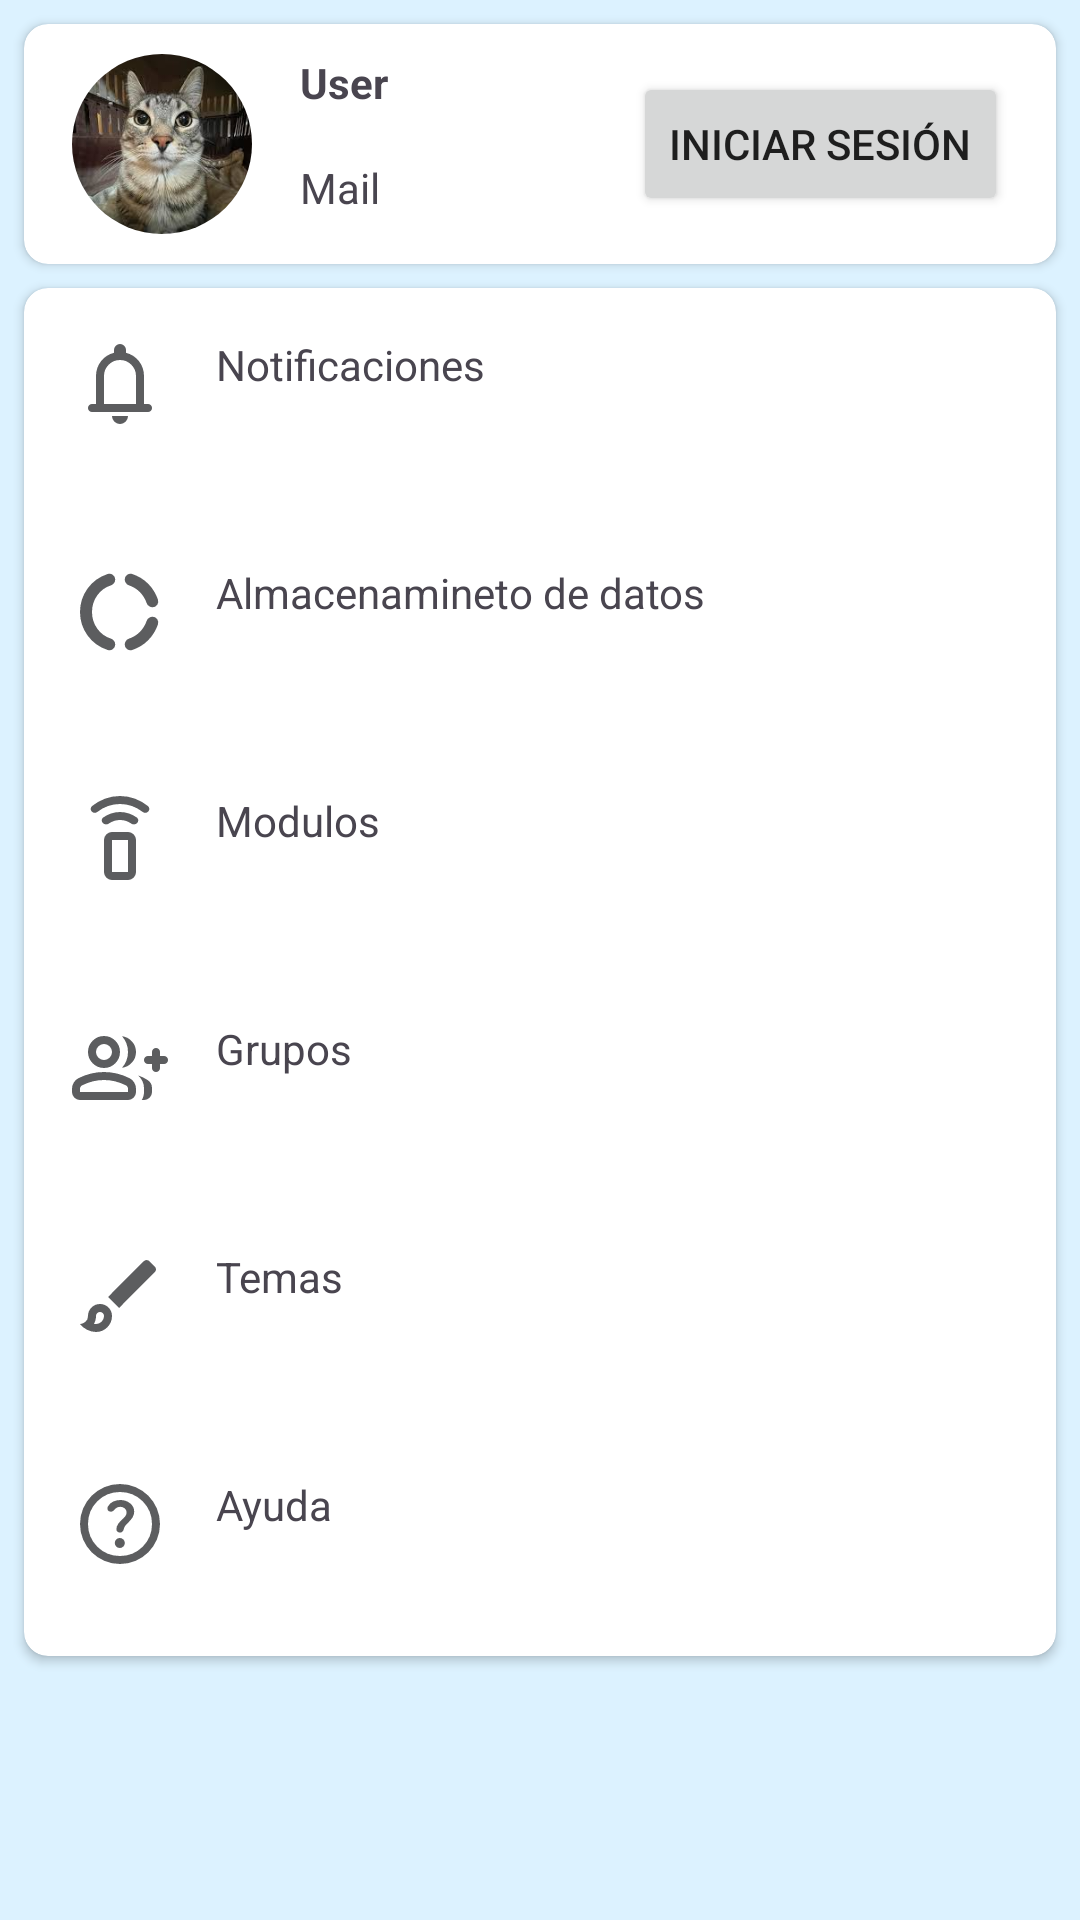

Point at icon controls on the screen. Image size 1080 x 1920, points as [x,y].
brush: [118,1296]
help: [120,1524]
notifications: [120,384]
